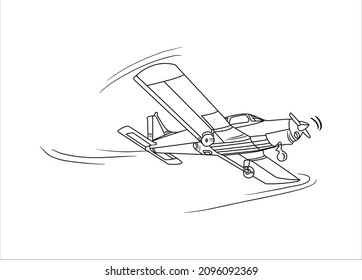airplane: (114, 61, 313, 185)
